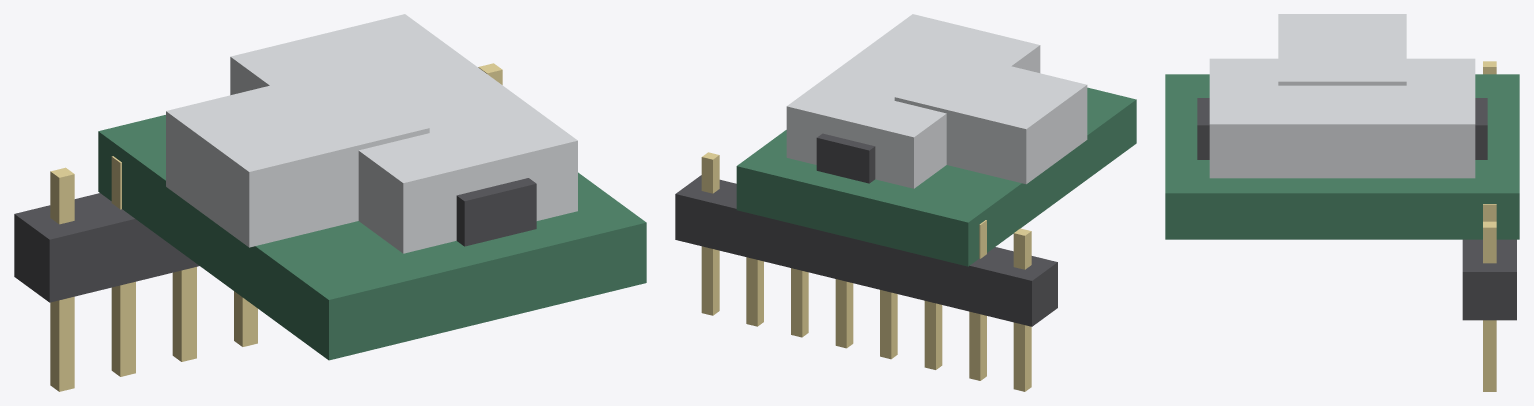
Rendered from esp32-c3-mini-1.glb.
3 views of the same model, side by side, from view 1: azimuth 30°, elevation 25°; view 2: azimuth 150°, elevation 25°; view 3: azimuth 270°, elevation 25° (orthographic). The views are drawn at different scales.
Parts seen in each view (by area): view 1: esp32-c3-mini-1-metal, esp32-c3-mini-1-pcb, esp32-c3-mini-1-plastic, esp32-c3-mini-1-pins; view 2: esp32-c3-mini-1-metal, esp32-c3-mini-1-pcb, esp32-c3-mini-1-plastic, esp32-c3-mini-1-pins; view 3: esp32-c3-mini-1-metal, esp32-c3-mini-1-pcb, esp32-c3-mini-1-plastic, esp32-c3-mini-1-pins.
Boxes of the visible parts, box(x1,y1,x2,y2) form: esp32-c3-mini-1-metal: box(166, 14, 577, 253); esp32-c3-mini-1-pcb: box(98, 115, 646, 360); esp32-c3-mini-1-plastic: box(14, 178, 536, 302); esp32-c3-mini-1-pins: box(50, 63, 502, 391); esp32-c3-mini-1-metal: box(786, 14, 1087, 188); esp32-c3-mini-1-pcb: box(736, 87, 1136, 266); esp32-c3-mini-1-plastic: box(675, 133, 1057, 326); esp32-c3-mini-1-pins: box(701, 152, 1031, 391); esp32-c3-mini-1-metal: box(1209, 14, 1475, 178); esp32-c3-mini-1-pcb: box(1165, 74, 1519, 239); esp32-c3-mini-1-plastic: box(1197, 98, 1516, 320); esp32-c3-mini-1-pins: box(1483, 61, 1496, 391).
Bounding box in the file's own units: 0.0203 × 0.0121 × 0.0166.
